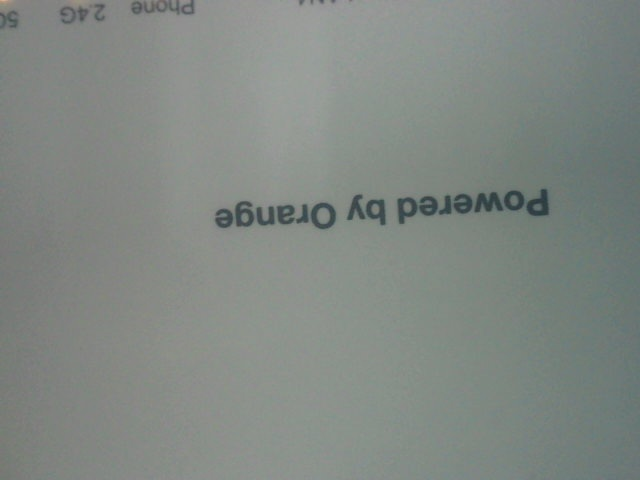AS_PowerByOrange: (208, 183, 557, 232)
